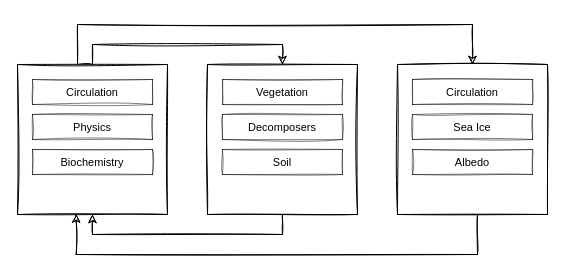
This 565x280 diagram has some shape labels left out. The shapes that lost their labels are listed below. From the top down, each one's box as (x1, y1, x2, y2) in pixels, then its label:
(16, 64, 168, 214): Atmosphere
(206, 64, 358, 214): Land
(396, 64, 548, 214): Ocean
